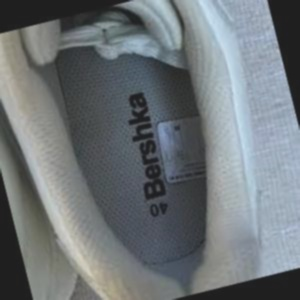bershka: (119, 41, 234, 123)
